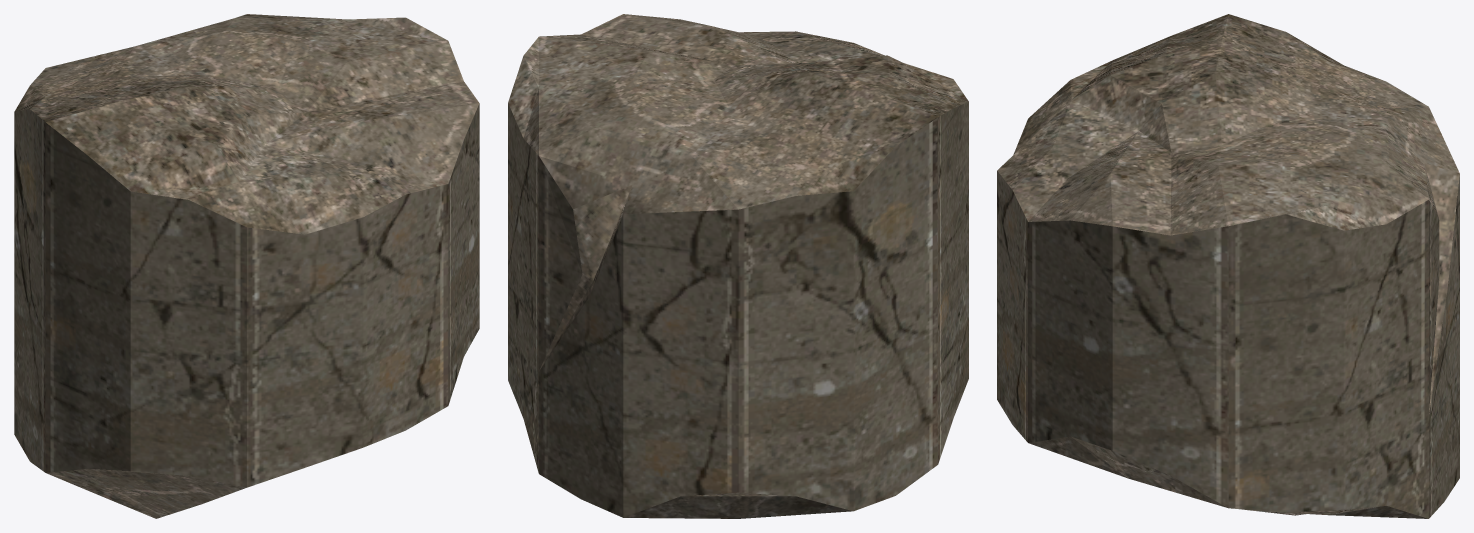
File: bg_lut_lutomb_pillar07a_sm_old.FBX
The picture shows the model from 3 angles, left to right: view 1: azimuth 30°, elevation 25°; view 2: azimuth 150°, elevation 25°; view 3: azimuth 270°, elevation 25°; orthographic projection.
Visible parts, largest first — view 1: bg_lut_lutomb_pillar07a_sm_old; view 2: bg_lut_lutomb_pillar07a_sm_old; view 3: bg_lut_lutomb_pillar07a_sm_old.
Part boxes in pixels (x1,y1,x2,y2): bg_lut_lutomb_pillar07a_sm_old: [14, 14, 479, 518]; bg_lut_lutomb_pillar07a_sm_old: [508, 14, 968, 518]; bg_lut_lutomb_pillar07a_sm_old: [997, 14, 1459, 518].
Size of the model in its own units: 41.18 by 41.17 by 41.18.
